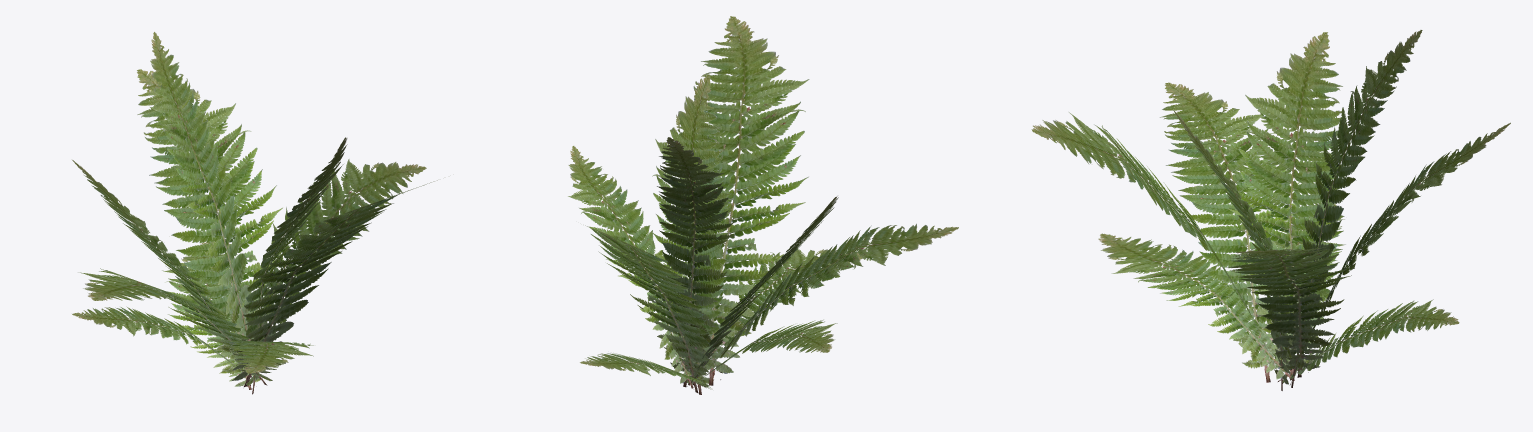
The model's file is Fern4.fbx.
3 renders of one model, left to right at view 1: azimuth 30°, elevation 25°; view 2: azimuth 150°, elevation 25°; view 3: azimuth 270°, elevation 25°, orthographic. The views are drawn at different scales.
Visible parts, largest first — view 1: Fern4; view 2: Fern4; view 3: Fern4.
Boxes of the visible parts, bbox=[...] form: Fern4: bbox=[72, 32, 437, 394]; Fern4: bbox=[568, 16, 958, 394]; Fern4: bbox=[1031, 30, 1510, 390].
Size of the model in its own units: 243 by 195 by 260.
